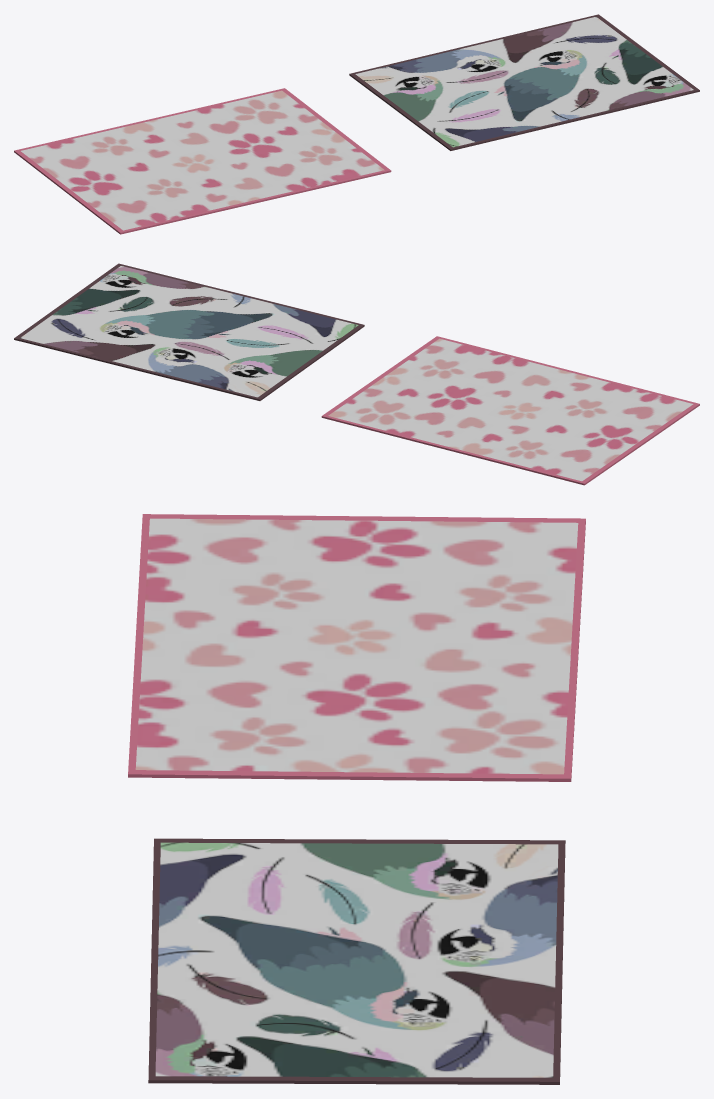
The model's file is carpets12.fbx.
3 renders of one model, top to bottom at view 1: azimuth 30°, elevation 25°; view 2: azimuth 150°, elevation 25°; view 3: azimuth 270°, elevation 25°, orthographic. The views are drawn at different scales.
Visible parts, largest first — view 1: Carpet_1, Carpet_2; view 2: Carpet_1, Carpet_2; view 3: Carpet_1, Carpet_2.
Part boxes in pixels (x1=…): Carpet_1: x1=14, y1=88, x2=391, y2=234; Carpet_2: x1=349, y1=14, x2=699, y2=150; Carpet_1: x1=321, y1=336, x2=699, y2=485; Carpet_2: x1=14, y1=263, x2=364, y2=400; Carpet_1: x1=128, y1=514, x2=585, y2=781; Carpet_2: x1=148, y1=838, x2=565, y2=1084.
Bounding box in the file's own units: 740 × 1.97 × 252.
